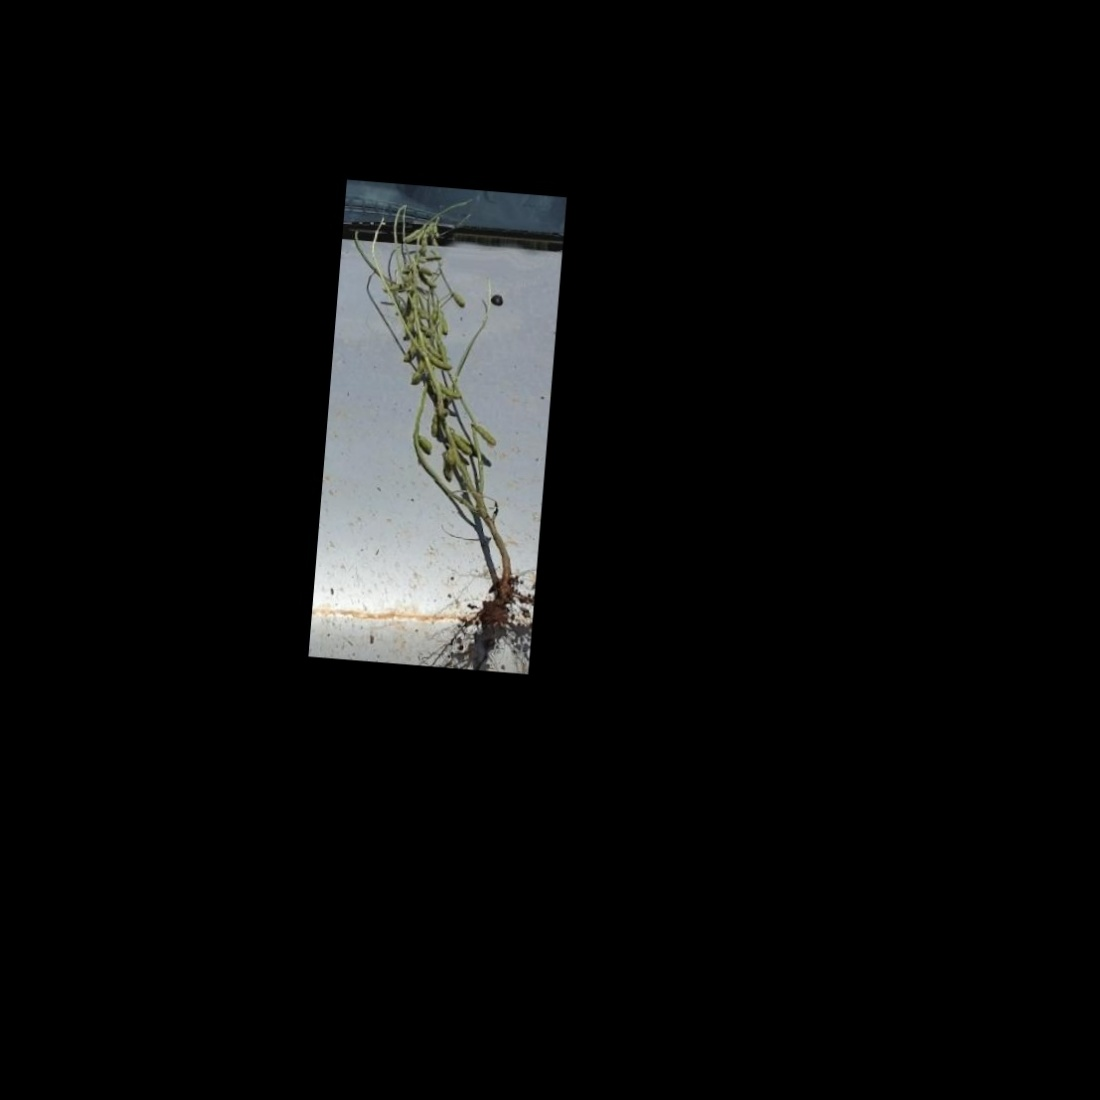pod: (469, 421, 498, 447), (450, 434, 476, 457), (434, 381, 465, 400), (412, 431, 434, 456), (411, 358, 424, 386), (449, 291, 468, 308)
soy: (314, 187, 559, 635)
